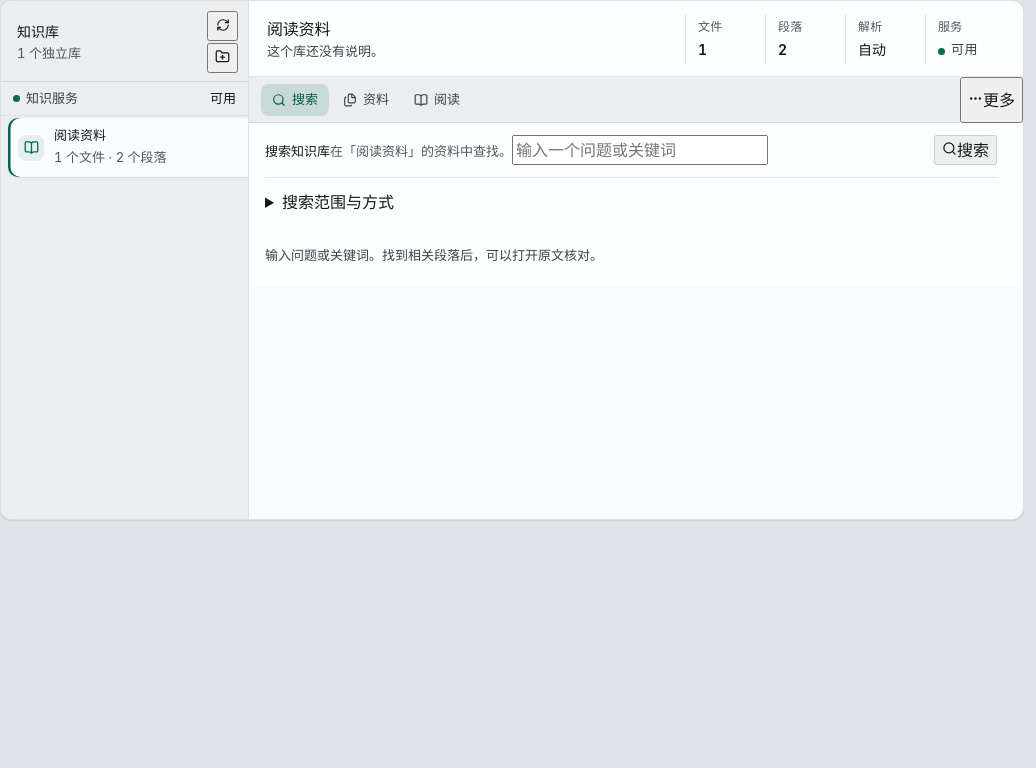
Test: Knowledge reading recovery › stops automatic hit pagination after a failed page and retries the same offset only on request
Type "来源" into the field labelled "搜索知识库".
click(640, 150); type("来源")  # box [512,135,768,165]
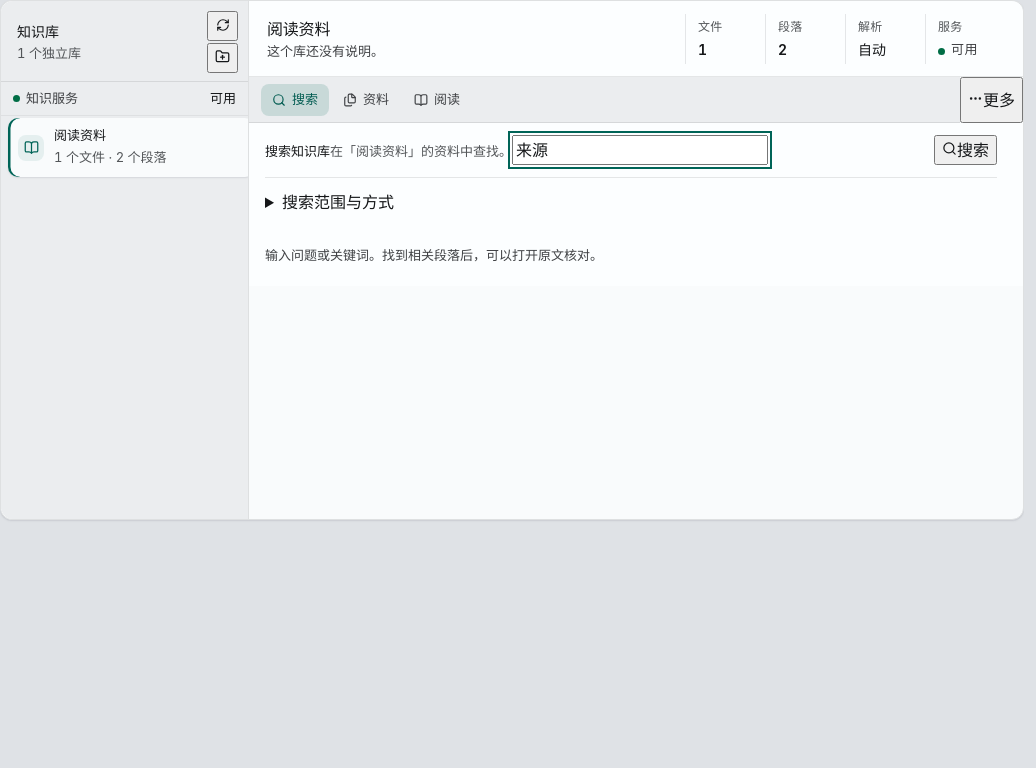
Click the button "搜索".
click(966, 150)  # box [934,135,997,165]
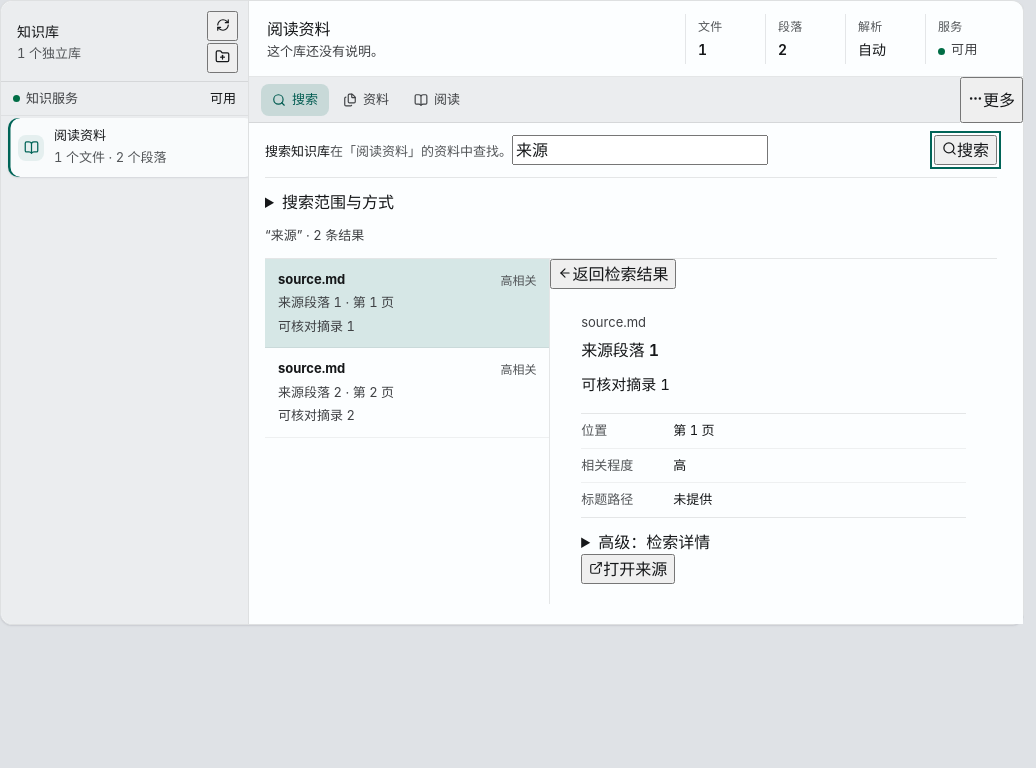
Click the option "source.md 来源段落 2 · 第 2 页 可核对摘录 2 高相关".
click(312, 368)  # box [265,348,550,438]
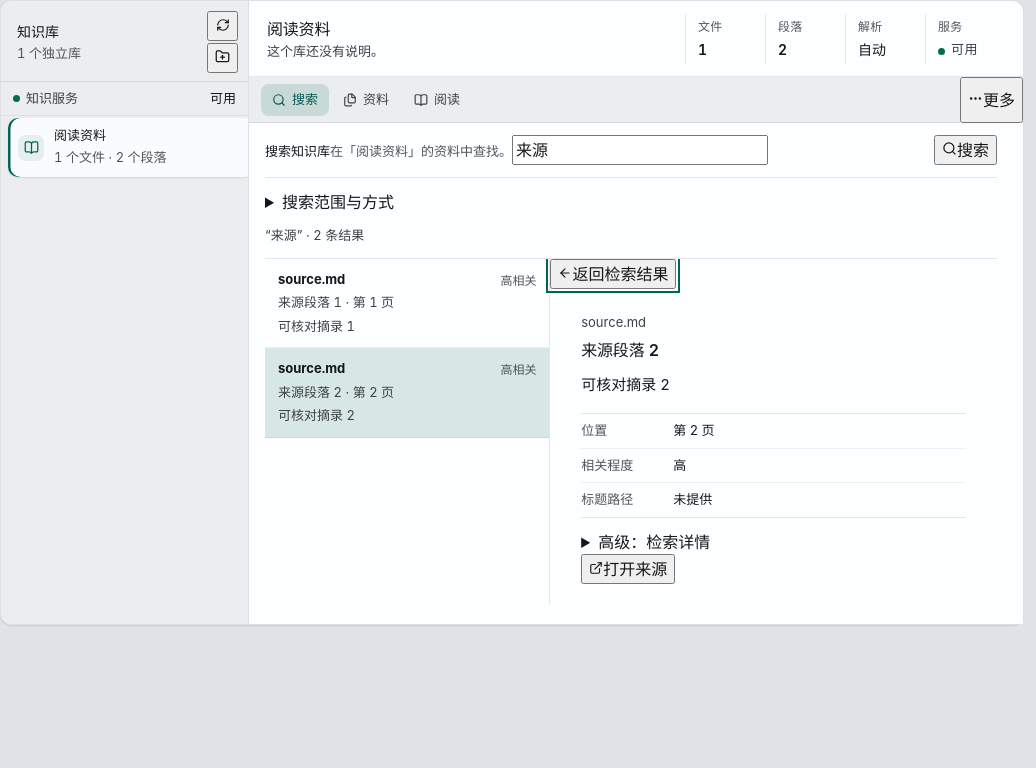
Click the button "打开来源".
click(628, 568)  # box [581,554,675,584]
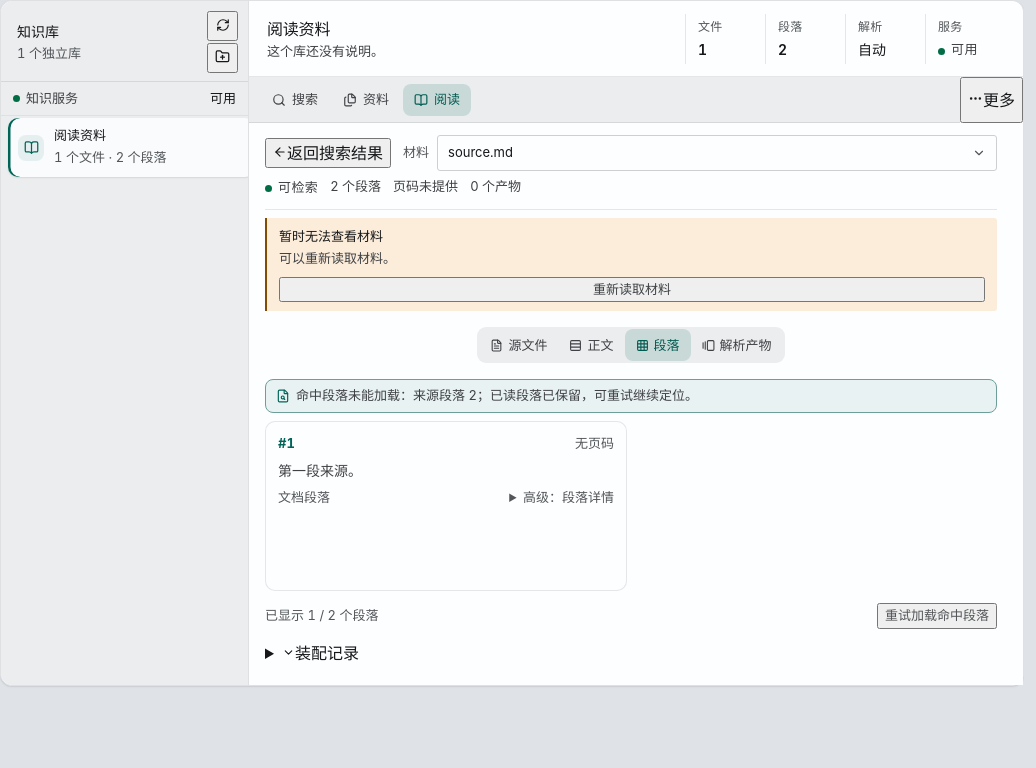
Now the button "重试加载命中段落" is enabled
Now the text "暂时无法查看材料" is shown, box [279,228,383,244]
Now the text "第一段来源。" is shown, box [278,462,362,478]
Click the button "重试加载命中段落".
click(937, 616)  # box [877,603,997,629]
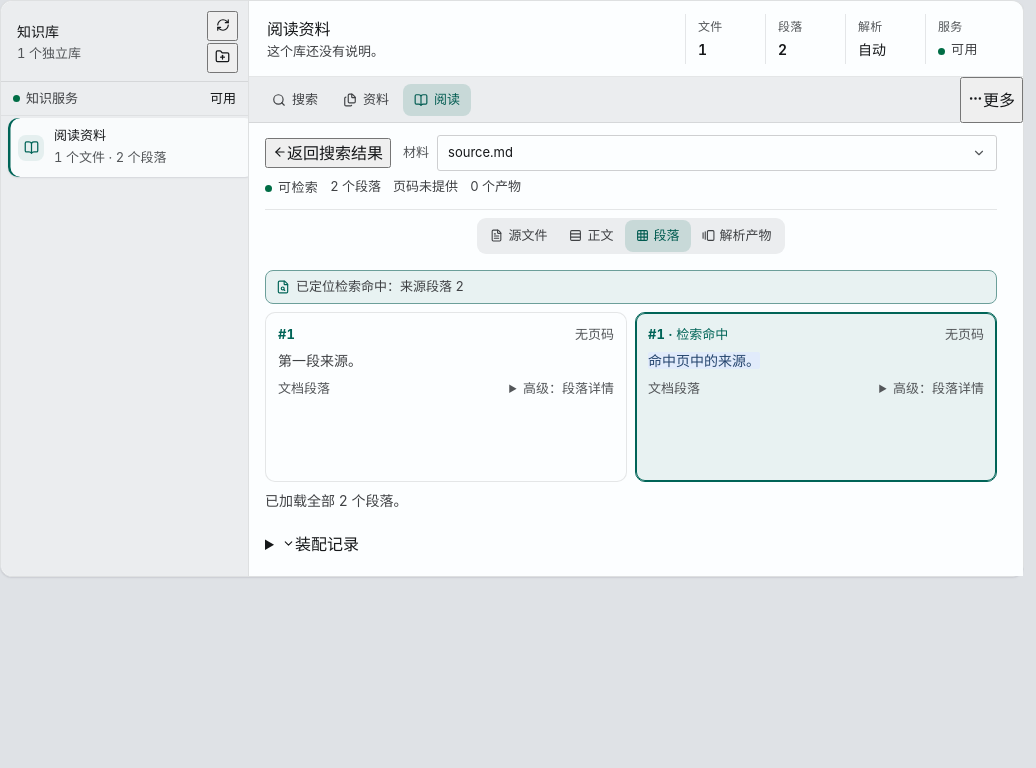
Now the text "第一段来源。" is shown, box [278,352,362,369]
Now the text "命中页中的来源。" is shown, box [648,352,760,369]
Now the text "已定位检索命中：来源段落 2" is shown, box [296,277,464,296]
